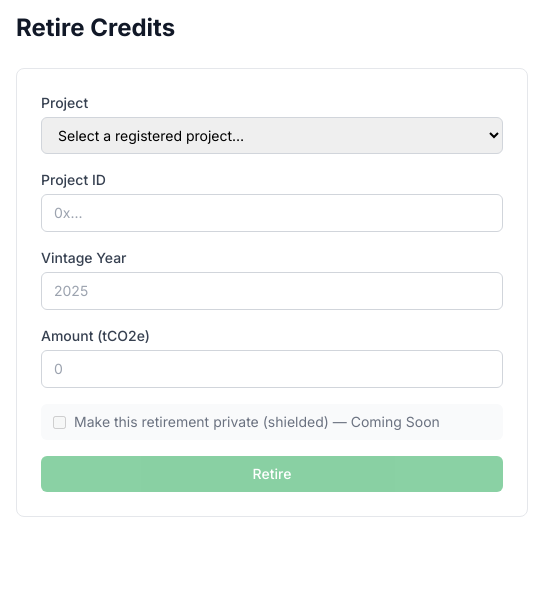
Test case: Retire page › prefills project and vintage from the registry-backed selectors
Select "Verra VM001 — Kenya" in the dropdown labelled "Project": (272, 136) [41,117,503,154]
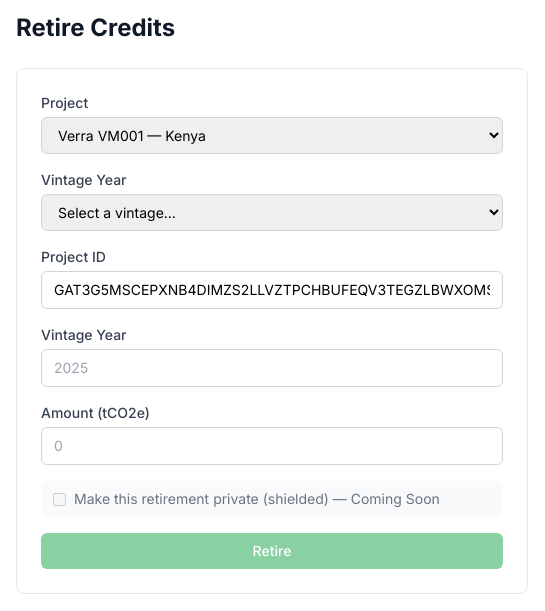
Now the field with placeholder "0x..." holds "GAT3G5MSCEPXNB4DIMZS2LLVZTPCHBUFEQV3TEGZLBWXOMSNV3V6U2OG", box [41,271,503,309]
Select "2025" in the dropdown labelled "Vintage Year": (272, 212) [41,194,503,231]
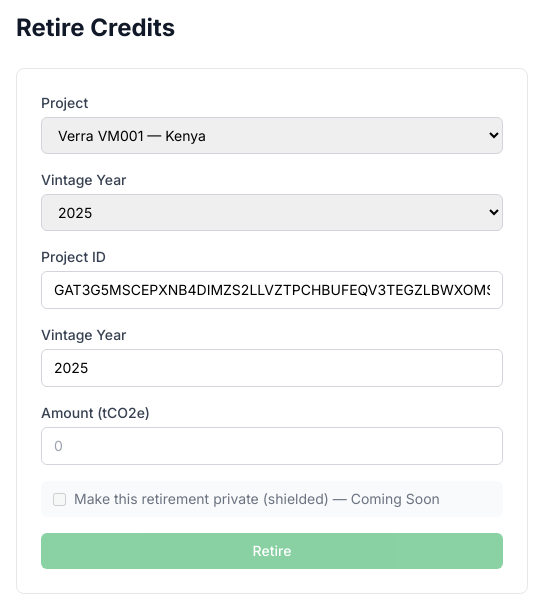
Now the 2nd field with placeholder "2025" holds "2025", box [41,349,503,387]
